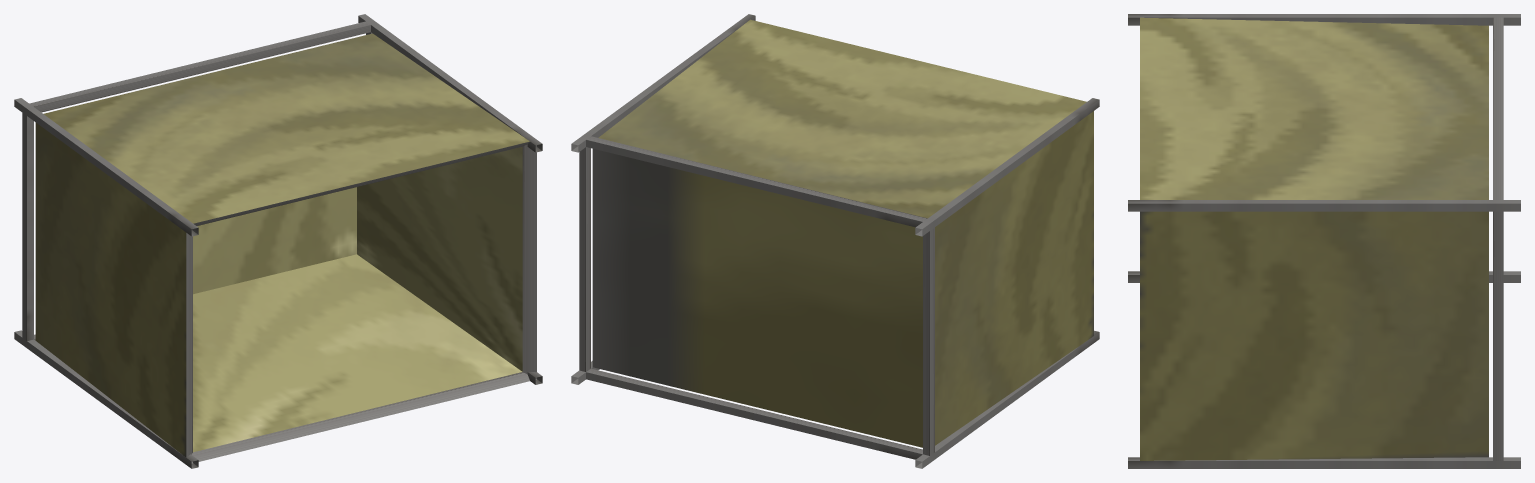
The model's file is pz_g024_washing_bin.obj.
3 renders of one model, left to right at view 1: azimuth 30°, elevation 25°; view 2: azimuth 150°, elevation 25°; view 3: azimuth 270°, elevation 25°, orthographic. The views are drawn at different scales.
Visible parts, largest first — view 1: fabric_outer_0, fabric_inner_2, fabric_outer_1, fabric_inner_3, bag_inside_floor, mouth_rim_2, frame_post_right, frame_post_front, mouth_rim_3, lower_frame_long_top, lower_frame_long_front, lower_frame_short_top (+3 smaller); view 2: bag_bottom, fabric_outer_0, fabric_outer_1, lower_frame_long_bottom, lower_frame_long_front, frame_post_right, frame_post_front, lower_frame_short_bottom, lower_frame_short_right; view 3: fabric_outer_3, fabric_outer_0, frame_post_left, frame_post_front, lower_frame_short_left, lower_frame_long_front.
Part boxes in pixels (left/top/right/bottom): fabric_outer_0: left=43, top=33, right=529, bottom=223; fabric_inner_2: left=193, top=254, right=522, bottom=452; fabric_outer_1: left=35, top=122, right=186, bottom=457; fabric_inner_3: left=357, top=146, right=522, bottom=371; bag_inside_floor: left=193, top=187, right=356, bottom=294; mouth_rim_2: left=191, top=372, right=536, bottom=463; frame_post_right: left=14, top=16, right=535, bottom=468; frame_post_front: left=14, top=14, right=542, bottom=461; mouth_rim_3: left=522, top=144, right=536, bottom=378; lower_frame_long_top: left=34, top=25, right=370, bottom=340; lower_frame_long_front: left=29, top=21, right=370, bottom=339; lower_frame_short_top: left=27, top=32, right=372, bottom=340; bag_bottom: left=592, top=148, right=922, bottom=447; fabric_outer_0: left=598, top=19, right=1086, bottom=218; fabric_outer_1: left=935, top=111, right=1093, bottom=445; lower_frame_long_bottom: left=586, top=140, right=922, bottom=459; lower_frame_long_front: left=586, top=136, right=927, bottom=454; frame_post_right: left=578, top=16, right=1099, bottom=468; frame_post_front: left=571, top=14, right=1099, bottom=461; lower_frame_short_bottom: left=579, top=147, right=929, bottom=455; lower_frame_short_right: left=586, top=147, right=934, bottom=455; fabric_outer_3: left=1140, top=211, right=1488, bottom=460; fabric_outer_0: left=1140, top=17, right=1488, bottom=199; frame_post_left: left=1128, top=17, right=1520, bottom=468; frame_post_front: left=1128, top=14, right=1520, bottom=460; lower_frame_short_left: left=1493, top=211, right=1503, bottom=460; lower_frame_long_front: left=1493, top=17, right=1503, bottom=199.
Bounding box in the file's own units: 0.913 × 0.596 × 0.7993.
Materials: 1 (1 with a texture image).
